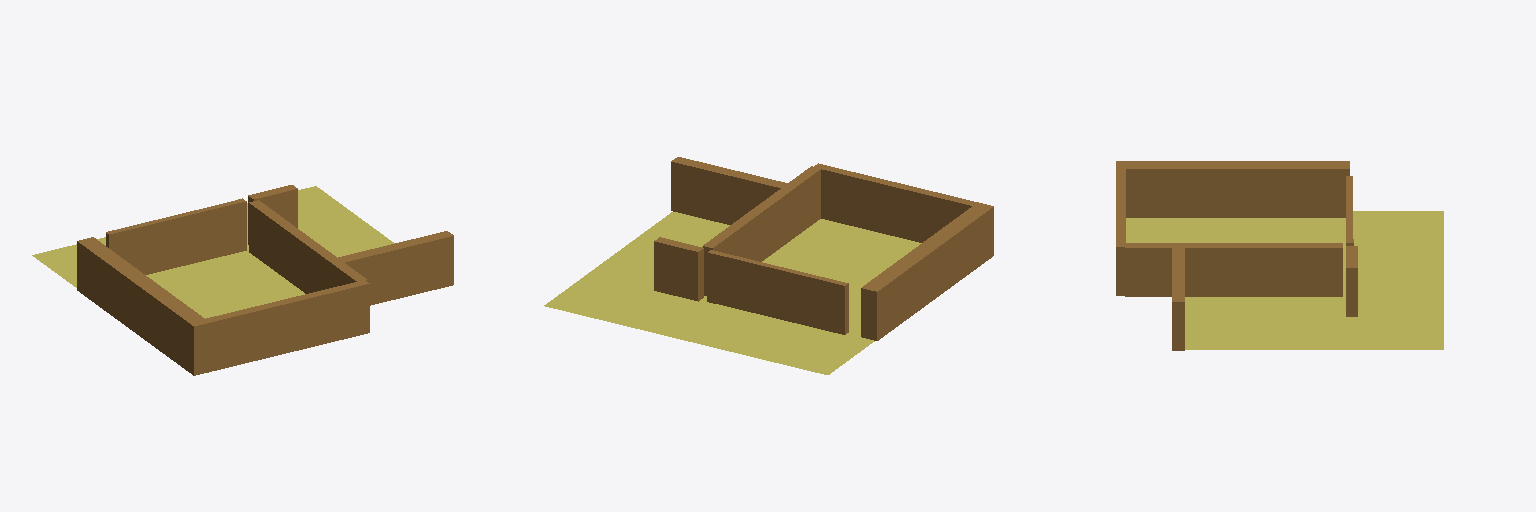
The model's file is room2.obj.
The picture shows the model from 3 angles: view 1: azimuth 30°, elevation 25°; view 2: azimuth 150°, elevation 25°; view 3: azimuth 270°, elevation 25°; orthographic projection.
Visible parts, largest first — view 1: floor_1_library_Cube50, floor_1_library_Cube41, floor_1_library_Cube55, floor_1_library_Plane11, floor_1_hallway_1_Cube69, floor_1_hallway_1_Cube68, floor_1_hallway_1_Plane20, floor_1_hallway_2_Plane22, floor_1_hallway_2_Cube64, floor_1_stairway_room_Plane19; view 2: floor_1_library_Cube41, floor_1_stairway_room_Plane19, floor_1_library_Cube50, floor_1_library_Cube55, floor_1_library_Plane11, floor_1_hallway_1_Cube68, floor_1_hallway_1_Cube69, floor_1_hallway_2_Plane22, floor_1_hallway_1_Plane20, floor_1_hallway_2_Cube64; view 3: floor_1_library_Cube41, floor_1_hallway_1_Cube68, floor_1_hallway_1_Plane20, floor_1_stairway_room_Plane19, floor_1_library_Plane11, floor_1_hallway_2_Plane22, floor_1_hallway_1_Cube69, floor_1_library_Cube50, floor_1_hallway_2_Cube64.
Boxes of the visible parts, x1,y1,x2,y2 form: floor_1_library_Cube50: [201, 280, 369, 371]; floor_1_library_Cube41: [77, 237, 209, 375]; floor_1_library_Cube55: [106, 199, 241, 274]; floor_1_library_Plane11: [146, 250, 304, 318]; floor_1_hallway_1_Cube69: [338, 231, 453, 305]; floor_1_hallway_1_Cube68: [249, 200, 367, 293]; floor_1_hallway_1_Plane20: [247, 219, 394, 257]; floor_1_hallway_2_Plane22: [247, 186, 360, 245]; floor_1_hallway_2_Cube64: [248, 185, 297, 244]; floor_1_stairway_room_Plane19: [32, 237, 248, 287]; floor_1_library_Cube41: [861, 204, 993, 340]; floor_1_stairway_room_Plane19: [659, 299, 874, 374]; floor_1_library_Cube50: [814, 163, 982, 242]; floor_1_library_Cube55: [712, 252, 848, 334]; floor_1_library_Plane11: [762, 219, 921, 335]; floor_1_hallway_1_Cube68: [703, 166, 820, 295]; floor_1_hallway_1_Cube69: [671, 157, 787, 224]; floor_1_hallway_2_Plane22: [544, 274, 701, 333]; floor_1_hallway_1_Plane20: [588, 212, 729, 301]; floor_1_hallway_2_Cube64: [654, 237, 703, 301]; floor_1_library_Cube41: [1116, 161, 1349, 217]; floor_1_hallway_1_Cube68: [1125, 243, 1342, 296]; floor_1_hallway_1_Plane20: [1185, 294, 1355, 349]; floor_1_stairway_room_Plane19: [1353, 211, 1443, 293]; floor_1_library_Plane11: [1126, 218, 1345, 293]; floor_1_hallway_2_Plane22: [1353, 294, 1443, 349]; floor_1_hallway_1_Cube69: [1172, 248, 1184, 350]; floor_1_library_Cube50: [1116, 169, 1125, 295]; floor_1_hallway_2_Cube64: [1346, 246, 1357, 316].
Size of the model in its own units: 21.83 by 3.57 by 21.55.